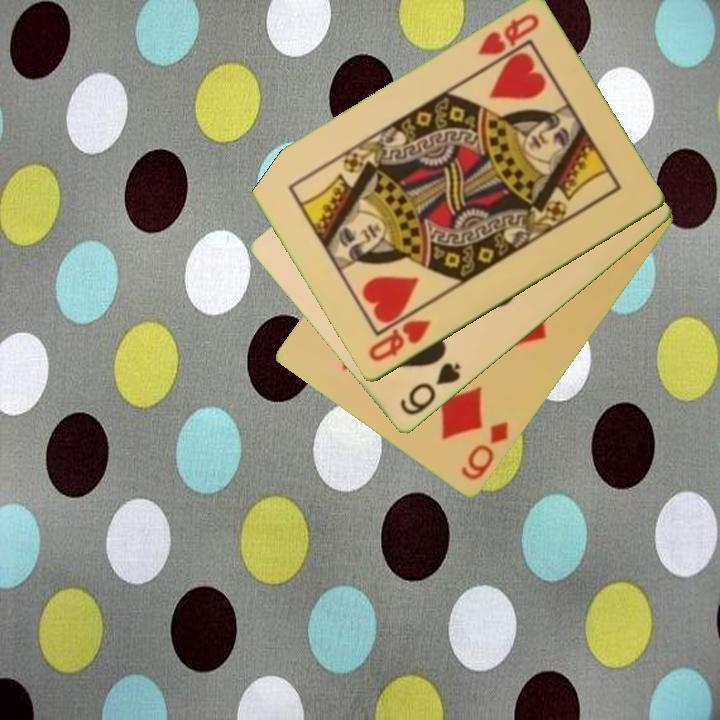6d: (457, 418, 512, 485)
6s: (396, 359, 464, 419)
Qh: (364, 316, 434, 365), (474, 10, 542, 59)
